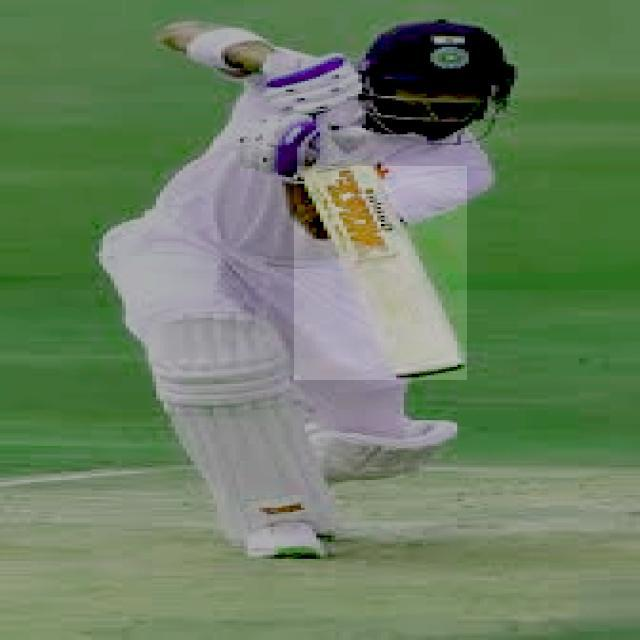bat: (297, 167, 464, 381)
toe: (390, 361, 462, 382)
